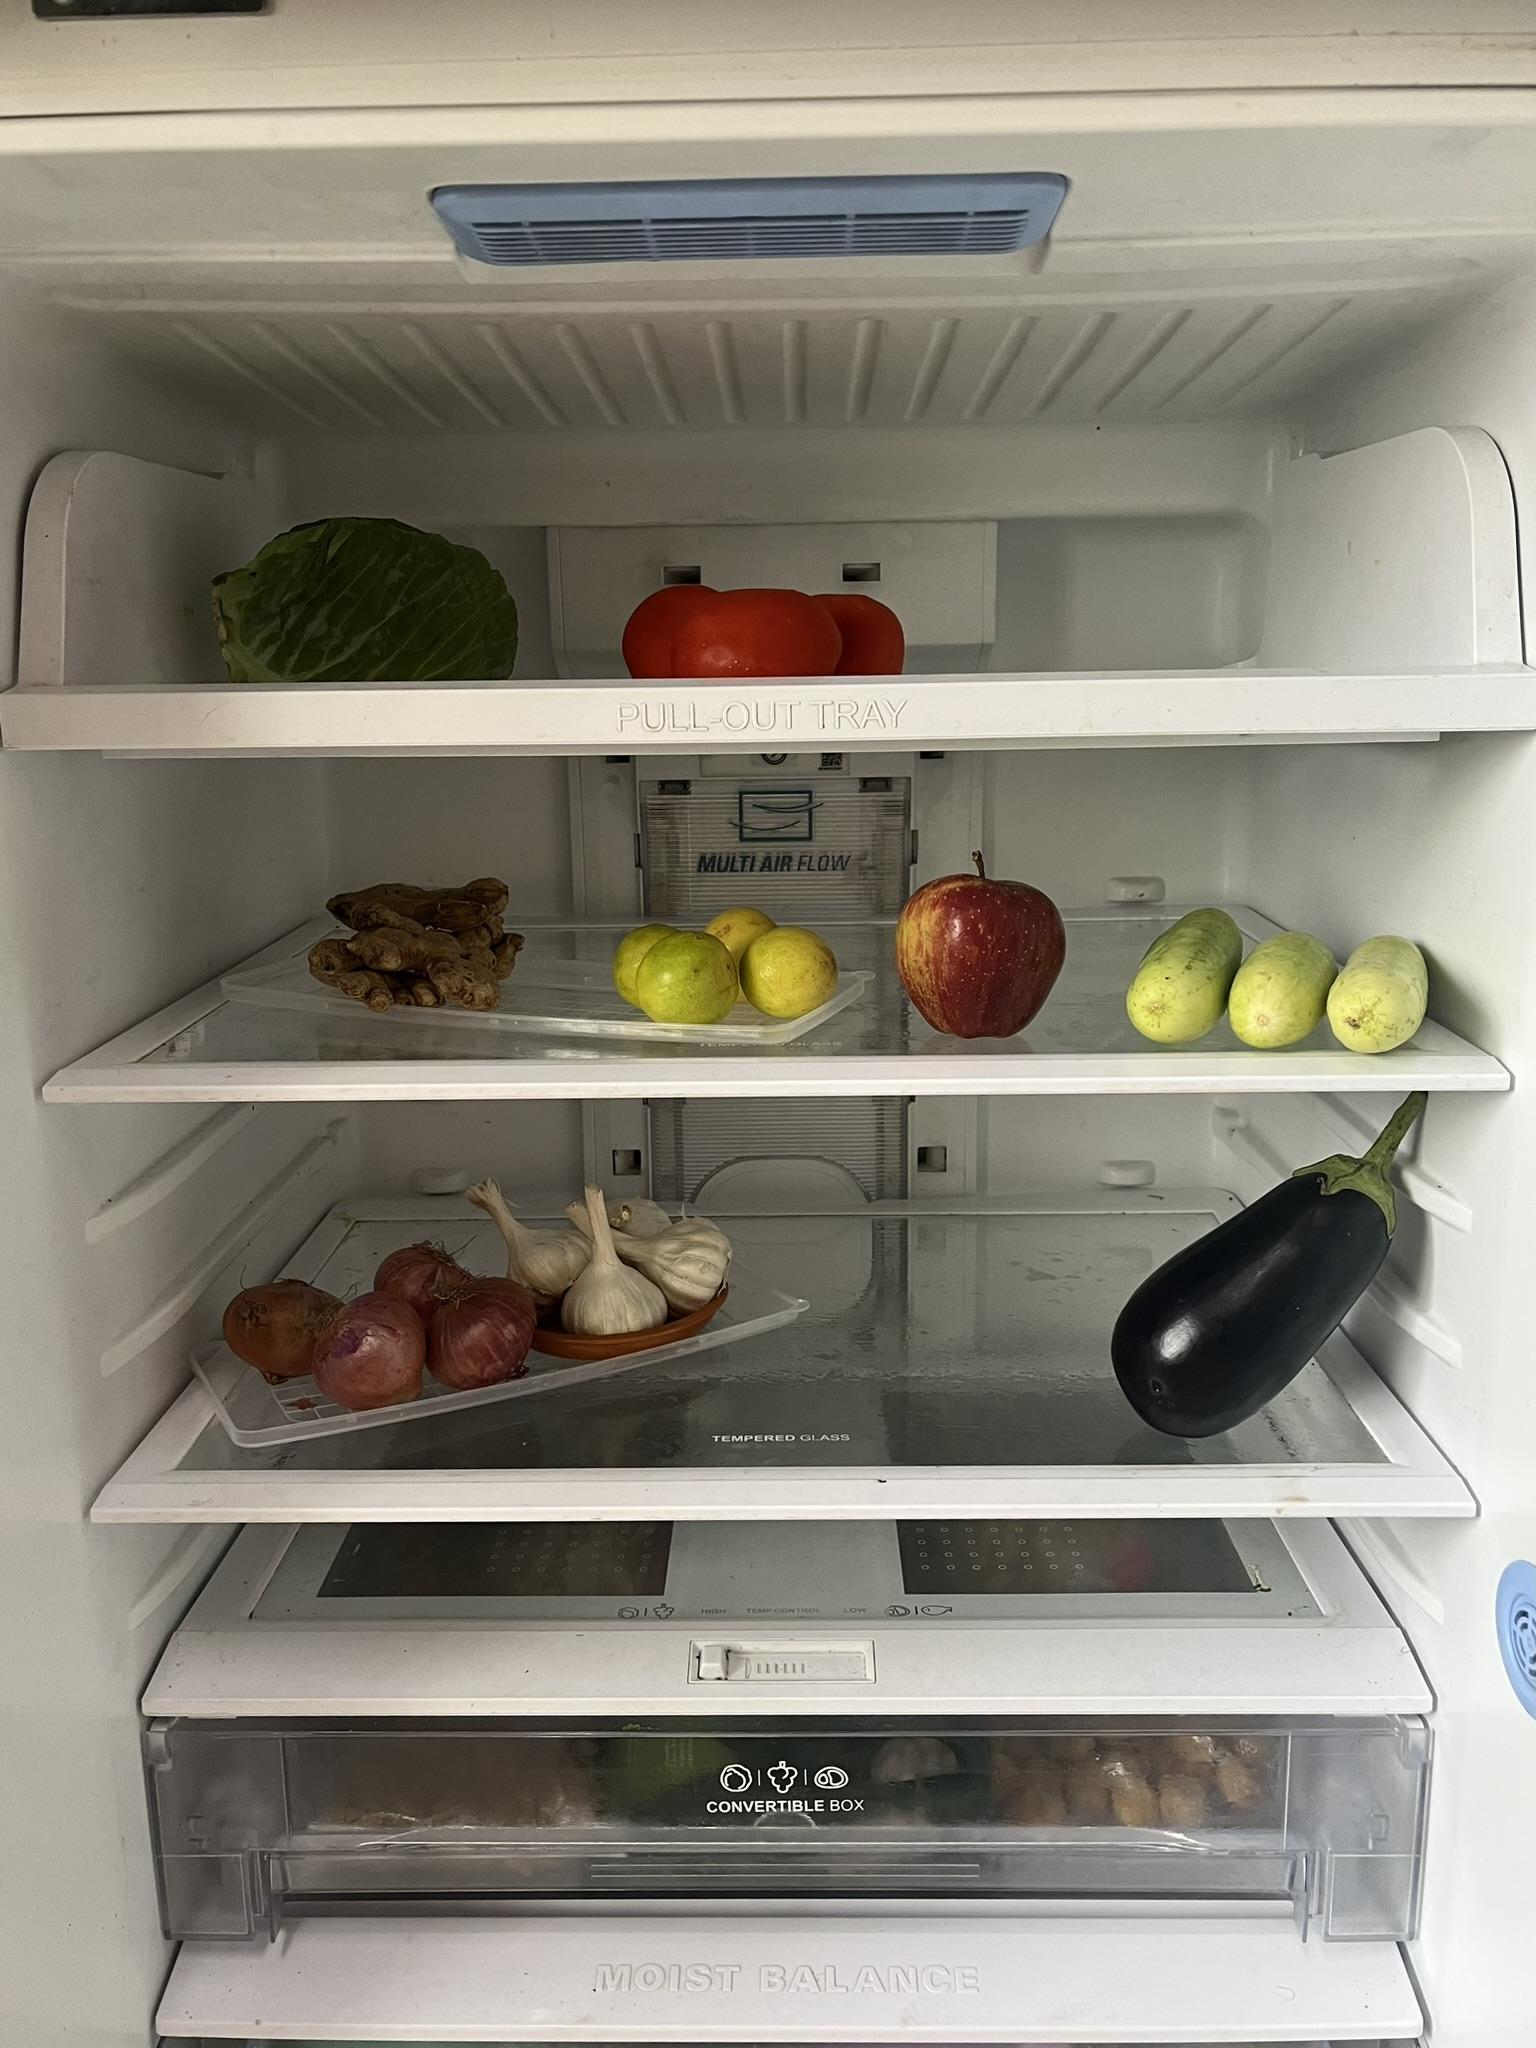apple: (1131, 906, 1431, 1050), (907, 861, 1063, 1035)
bringal: (1100, 1097, 1421, 1429)
cabbage: (198, 516, 520, 679)
garlic: (502, 1172, 734, 1366)
ginger: (321, 872, 528, 1016)
lemon: (616, 897, 831, 1026)
onion: (232, 1247, 534, 1397)
tomato: (626, 582, 897, 669)
